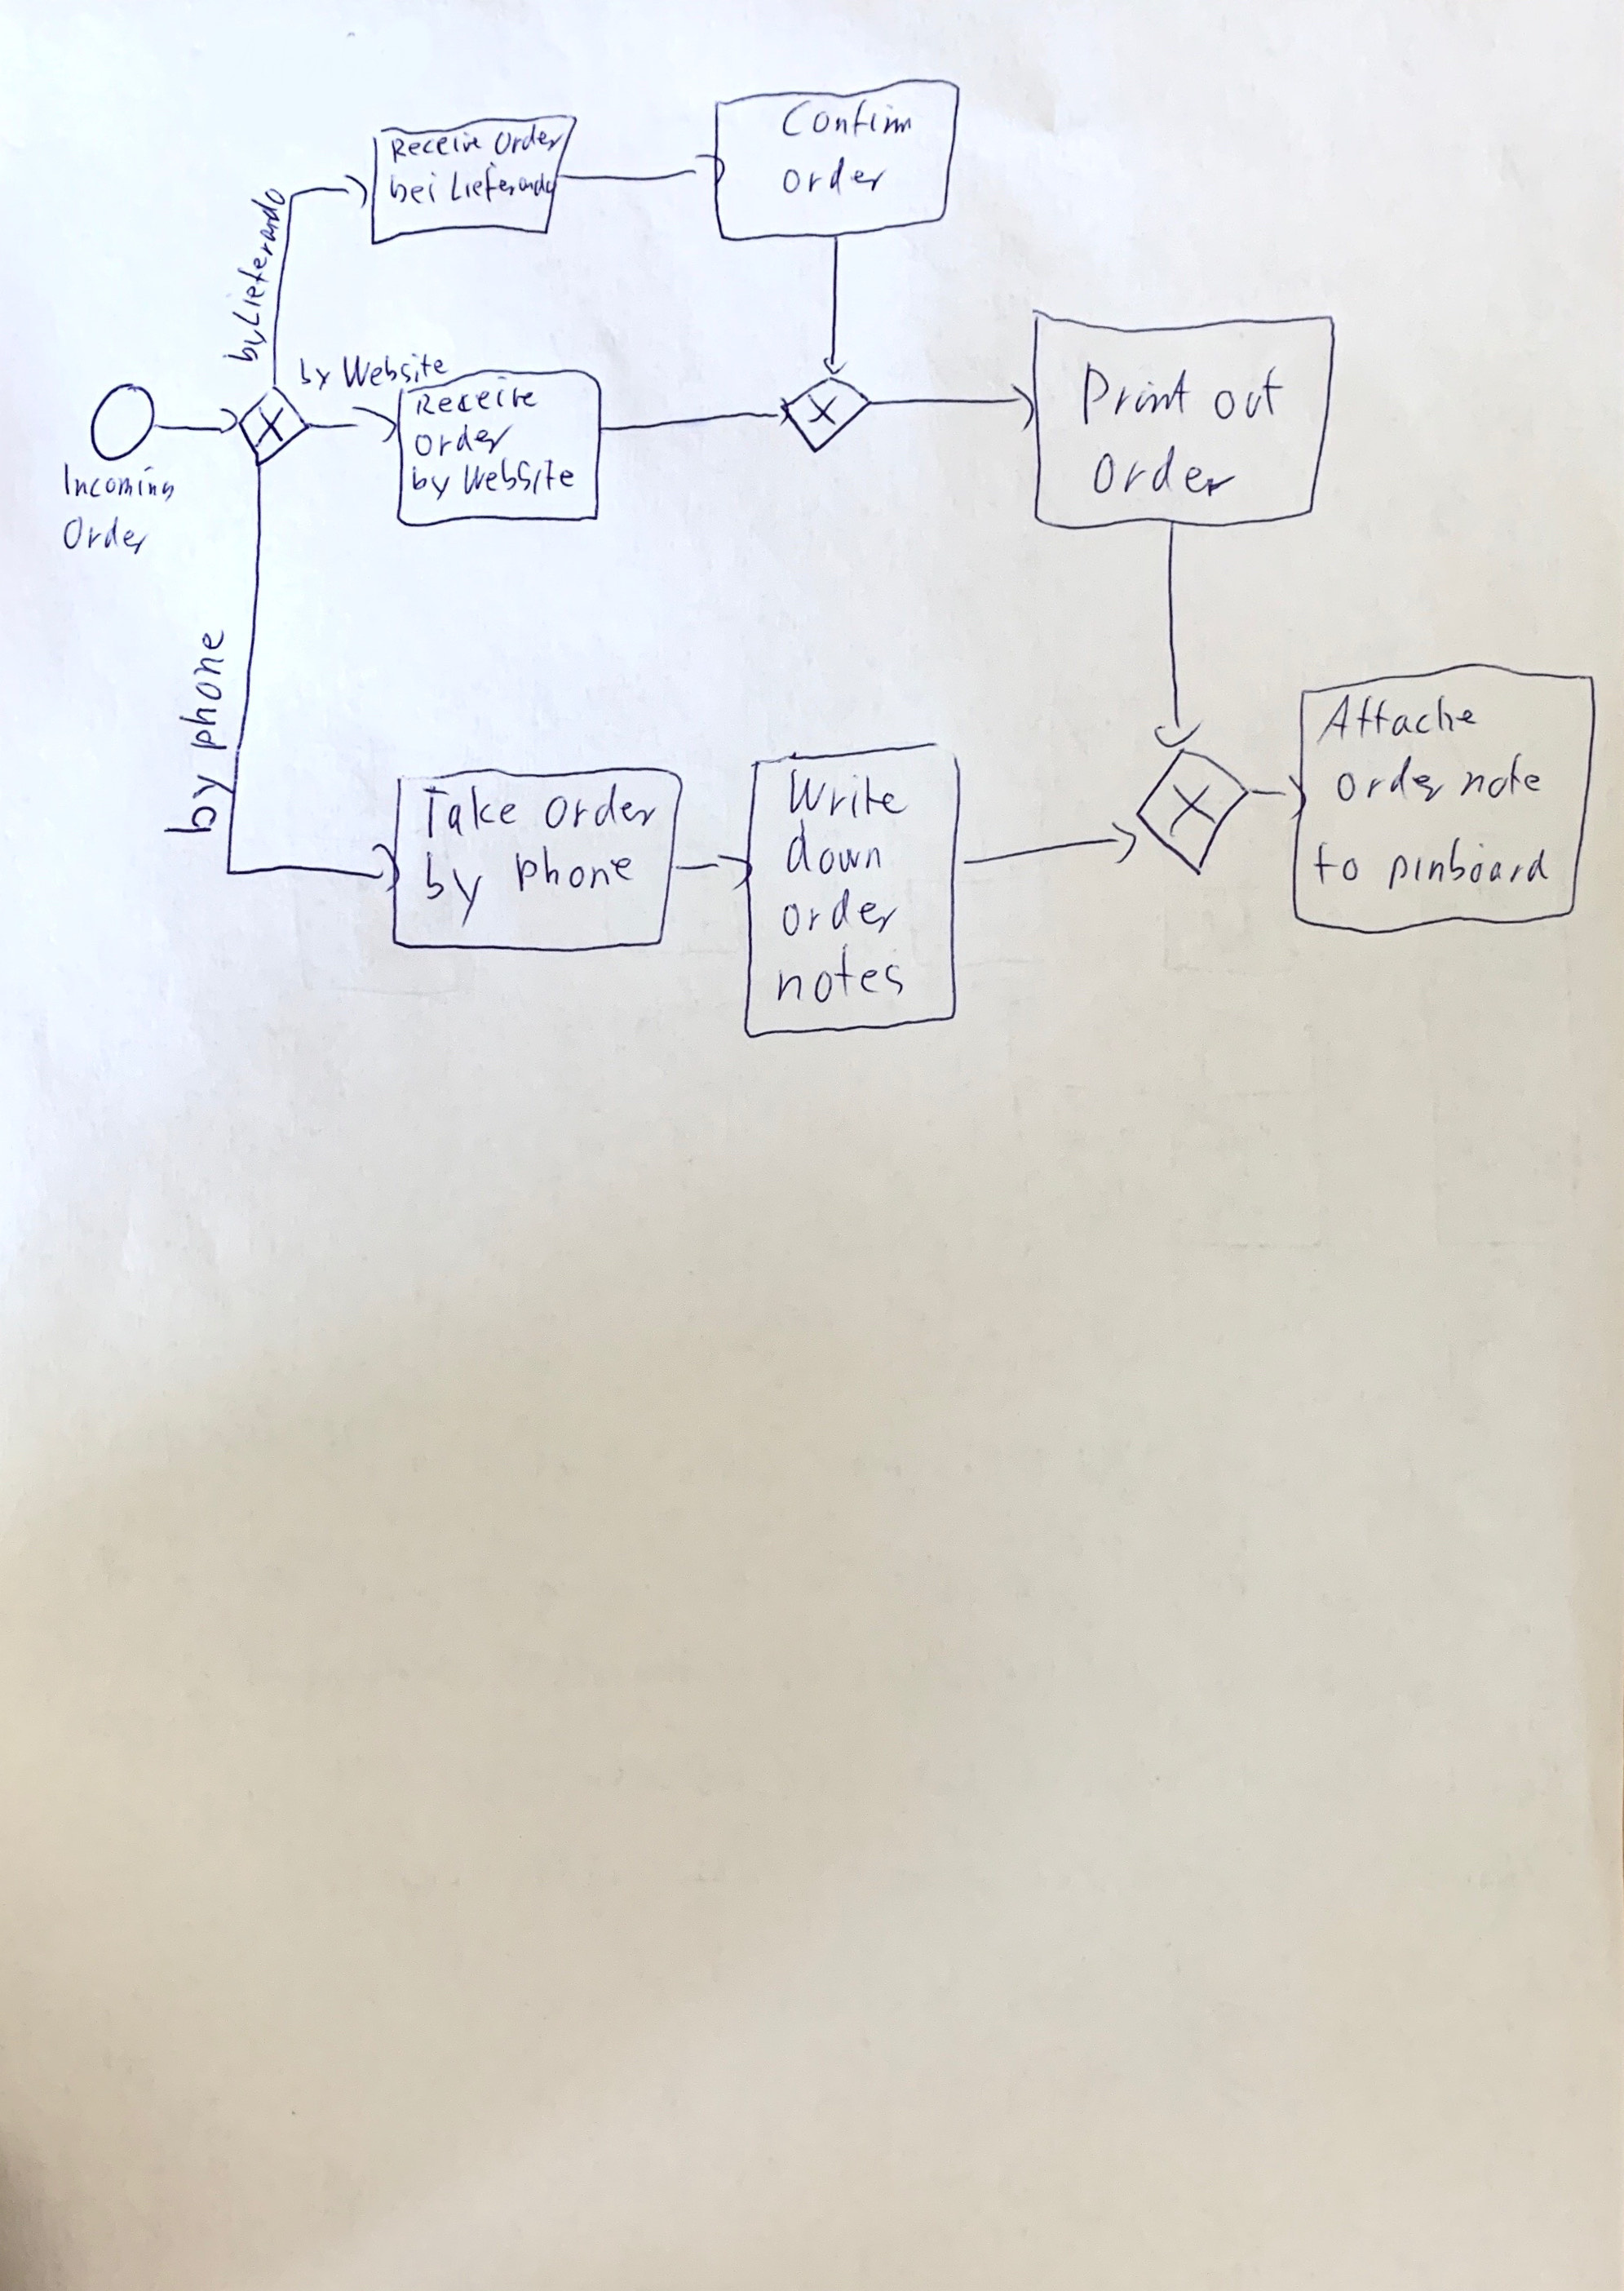Attache: (1316, 691, 1480, 745)
Confirm: (782, 95, 917, 141)
Incoming: (56, 462, 179, 506)
Lieferando: (243, 176, 290, 329), (446, 160, 557, 202)
Order: (62, 515, 149, 557), (490, 125, 564, 156)
Print: (1077, 362, 1190, 425)
Receive: (413, 380, 538, 420), (387, 137, 483, 164)
Take: (418, 784, 518, 840)
Website: (341, 348, 446, 389)
Write: (786, 770, 909, 816)
bei: (387, 171, 443, 211)
by: (417, 851, 504, 930), (165, 767, 237, 833), (406, 464, 459, 503), (221, 329, 271, 366), (294, 355, 332, 397)
down: (780, 819, 886, 877)
note: (1461, 753, 1545, 800)
notes: (775, 942, 903, 1006)
order: (1090, 443, 1241, 501), (541, 782, 659, 837), (777, 884, 902, 935), (1334, 754, 1445, 809), (780, 156, 891, 197), (415, 420, 511, 461)
out: (1211, 362, 1283, 427)
phone: (174, 624, 232, 758), (511, 844, 638, 897)
pinboard: (1381, 835, 1547, 891)
to: (1309, 839, 1360, 884)
website: (457, 455, 576, 501)
